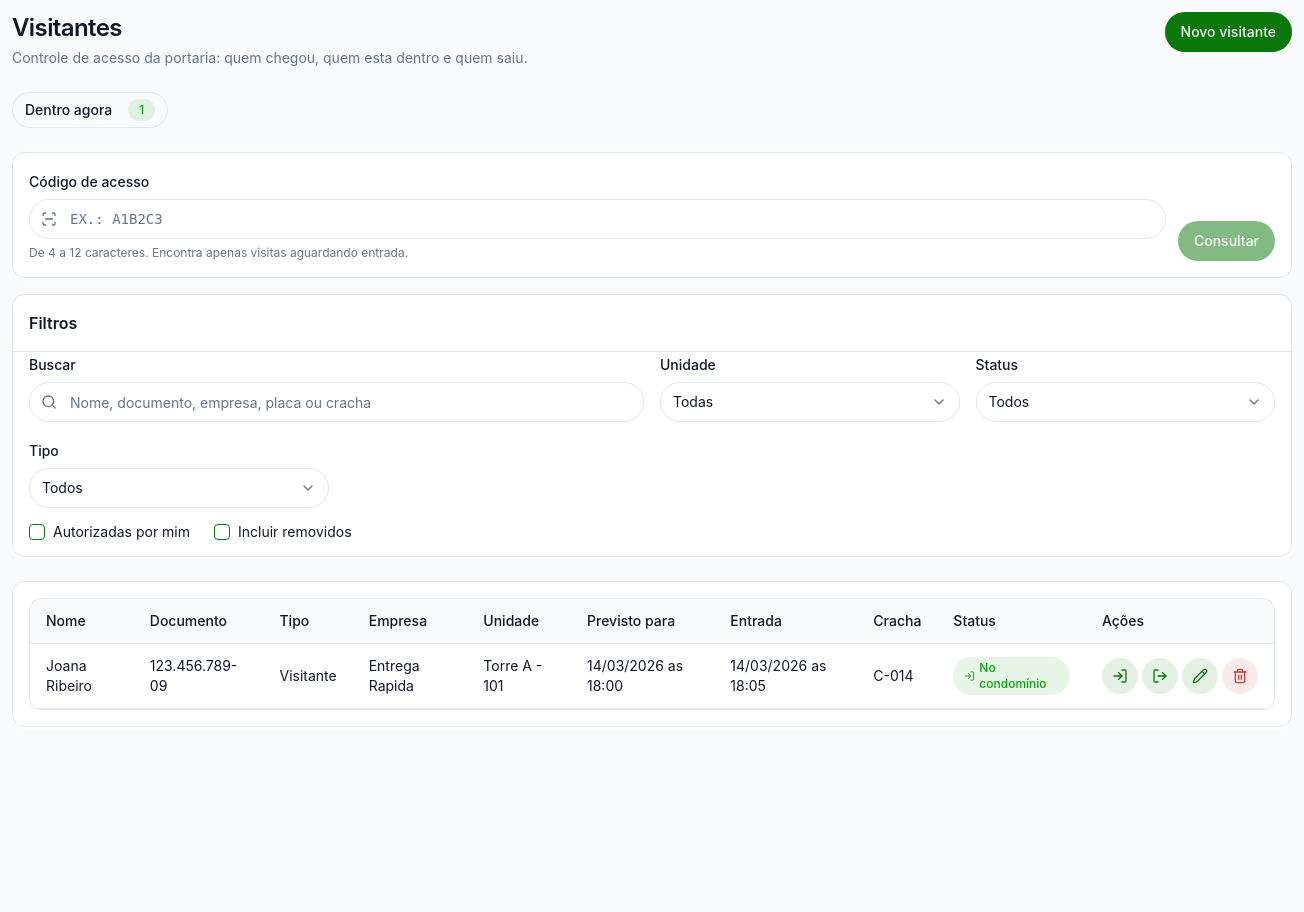
Scenario: Portaria: entrada e saída › registrar saída no mesmo visitante muda o status de volta e a contagem acompanha
expect the text "No condomínio" is shown: met, box top-left (953, 657), bottom-right (1070, 695)
Click the button named "Registrar saída de Joana Ribeiro" at [1160, 676], box top-left (1142, 658), bottom-right (1178, 694)
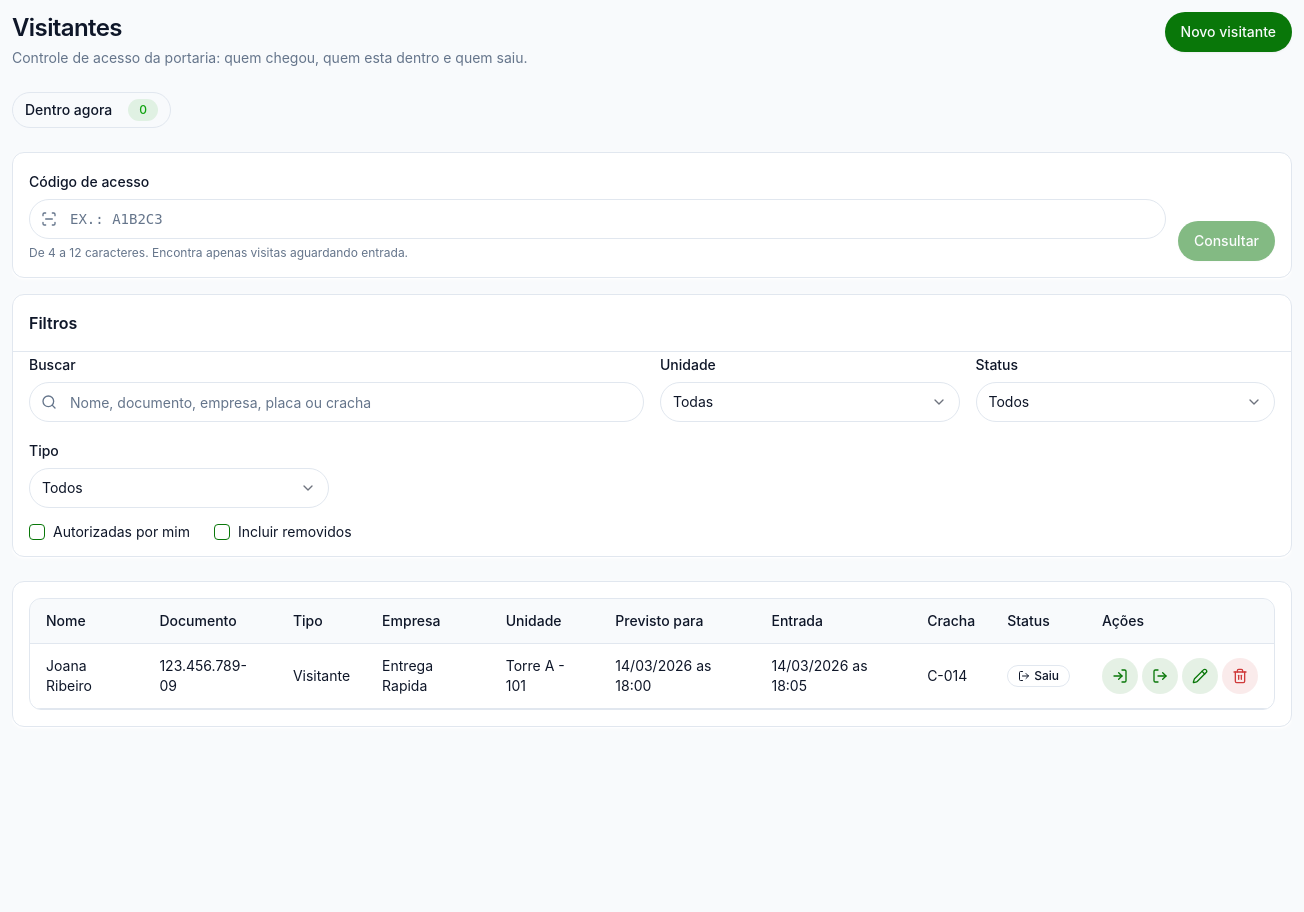
expect the text "Saiu" is shown: met, box top-left (1007, 665), bottom-right (1070, 687)
